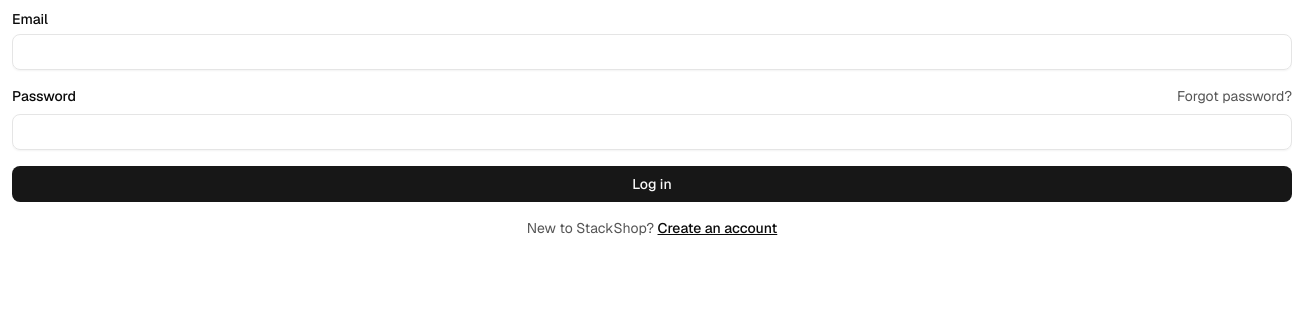
Test: LoginForm › F01_AC3_ShowsMappedServerErrorInAlert
This screenshot has width=1304, height=315.
Type "ada@example.com" into the field labelled "Email" at [652, 52], box [12,34,1292,70]
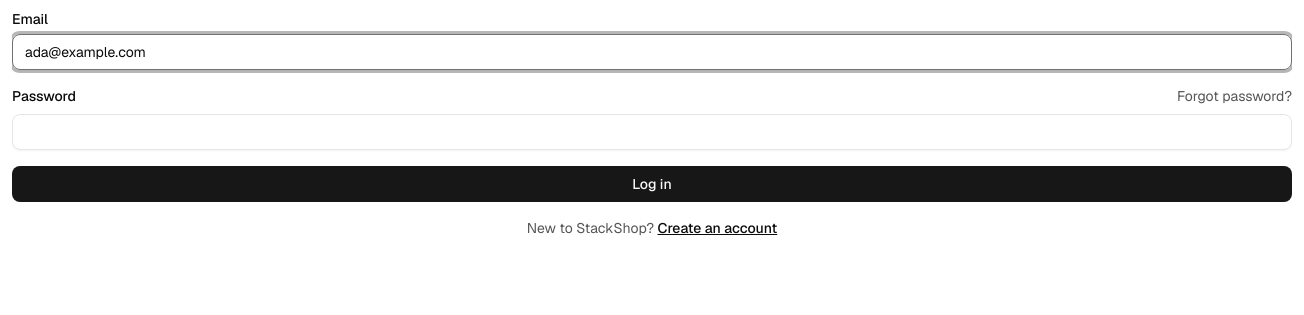
Type "x" into the password field labelled "Password" at [652, 132], box [12,114,1292,150]
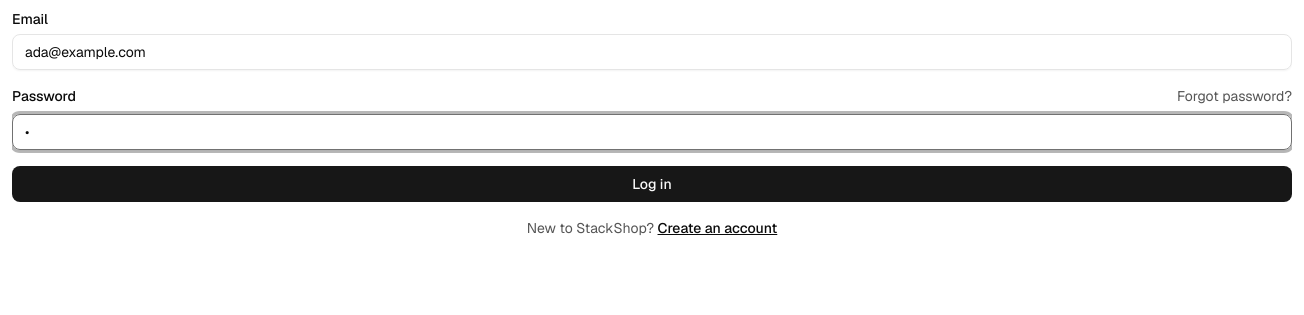
Click the button "Log in" at [652, 184], box [12,166,1292,202]
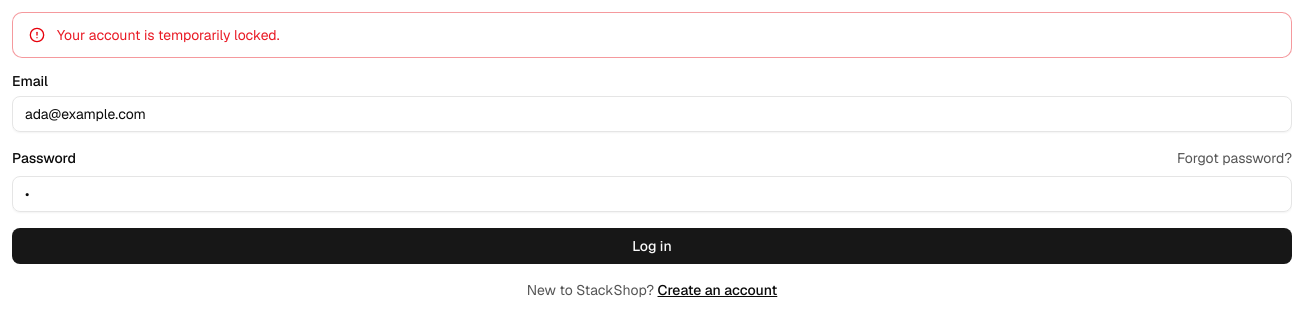
expect the message shows "temporarily locked": met, box [57,26,280,44]
